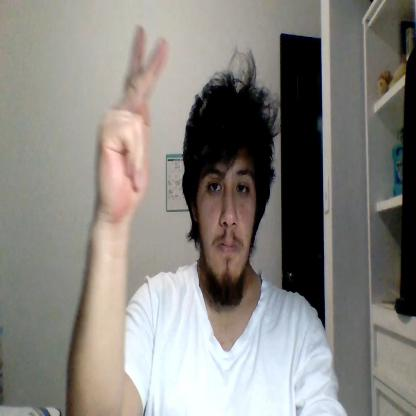P: (97, 26, 167, 224)
